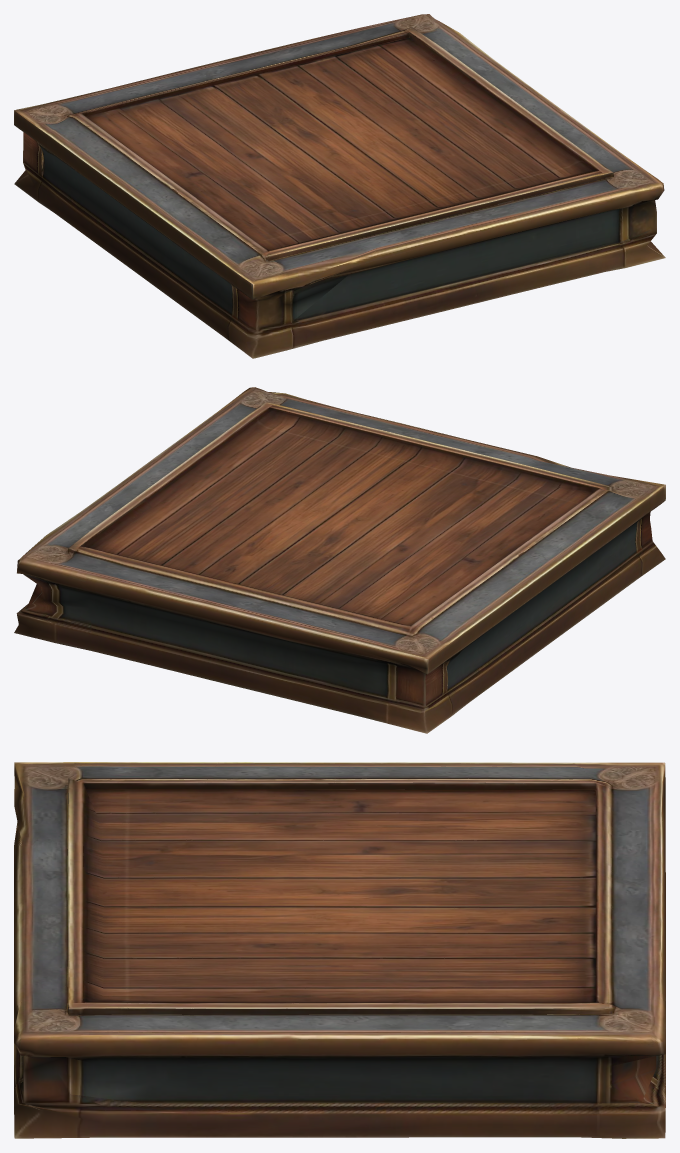
Rendered from platform1.glb.
The picture shows the model from 3 angles, top to bottom: view 1: azimuth 30°, elevation 25°; view 2: azimuth 150°, elevation 25°; view 3: azimuth 270°, elevation 25°; orthographic projection. The views are drawn at different scales.
Parts seen in each view (by area): view 1: Mesh0; view 2: Mesh0; view 3: Mesh0.
Boxes of the visible parts, x1,y1,x2,y2 form: Mesh0: (14, 14, 665, 358); Mesh0: (14, 387, 665, 733); Mesh0: (14, 762, 665, 1138).
Bounding box in the file's own units: 2 × 0.371 × 2.
1 material, 1 textured.
